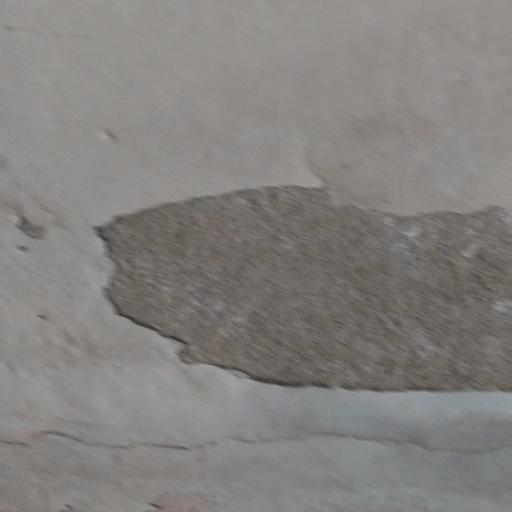peeling: (77, 113, 512, 410), (5, 401, 512, 477)
